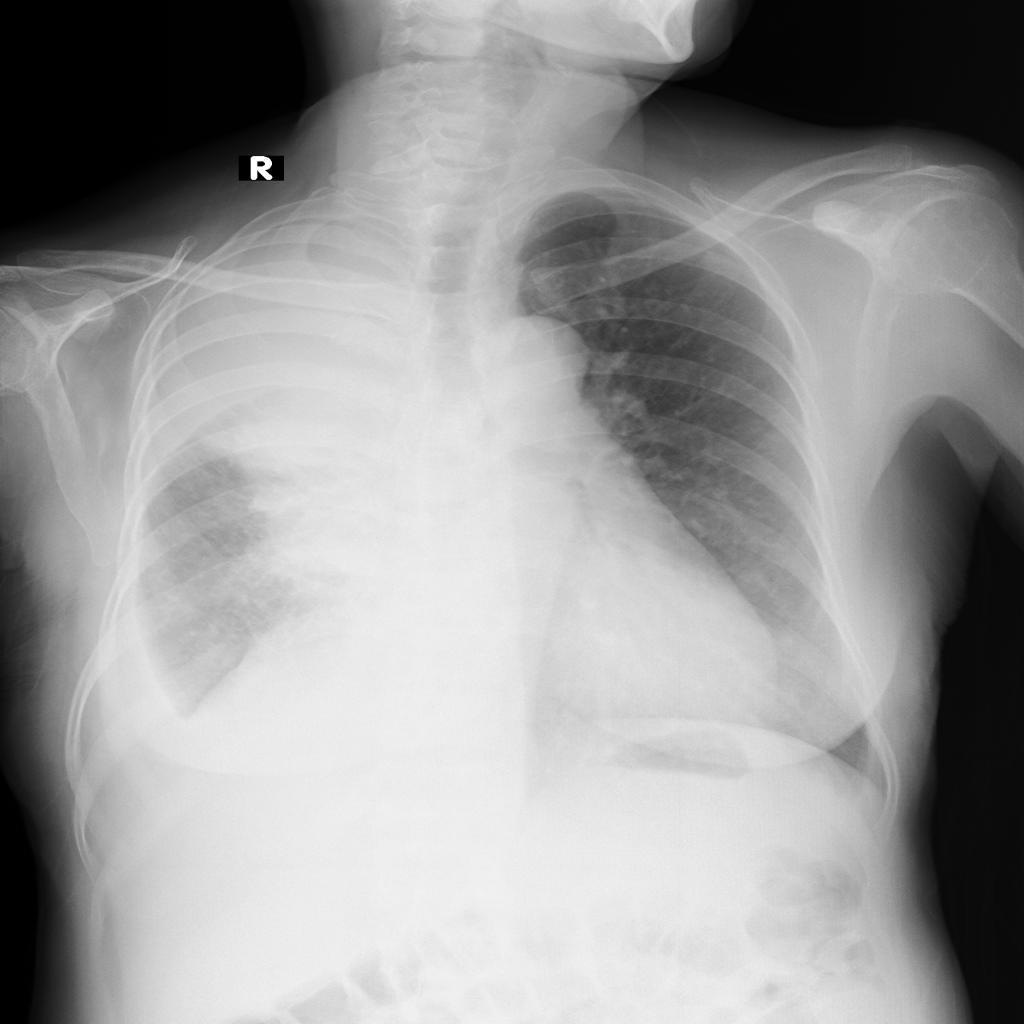Nodule: (154, 223, 405, 483)
